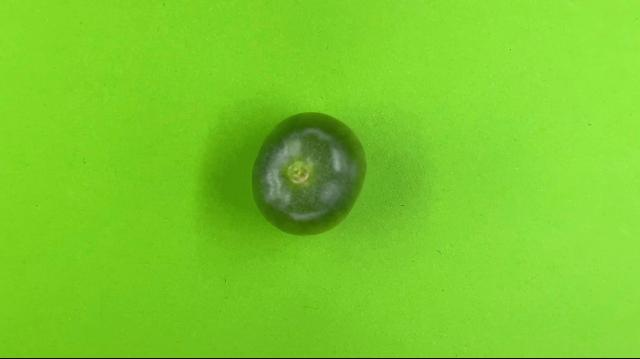Fruit Maturation: (249, 110, 370, 237)
